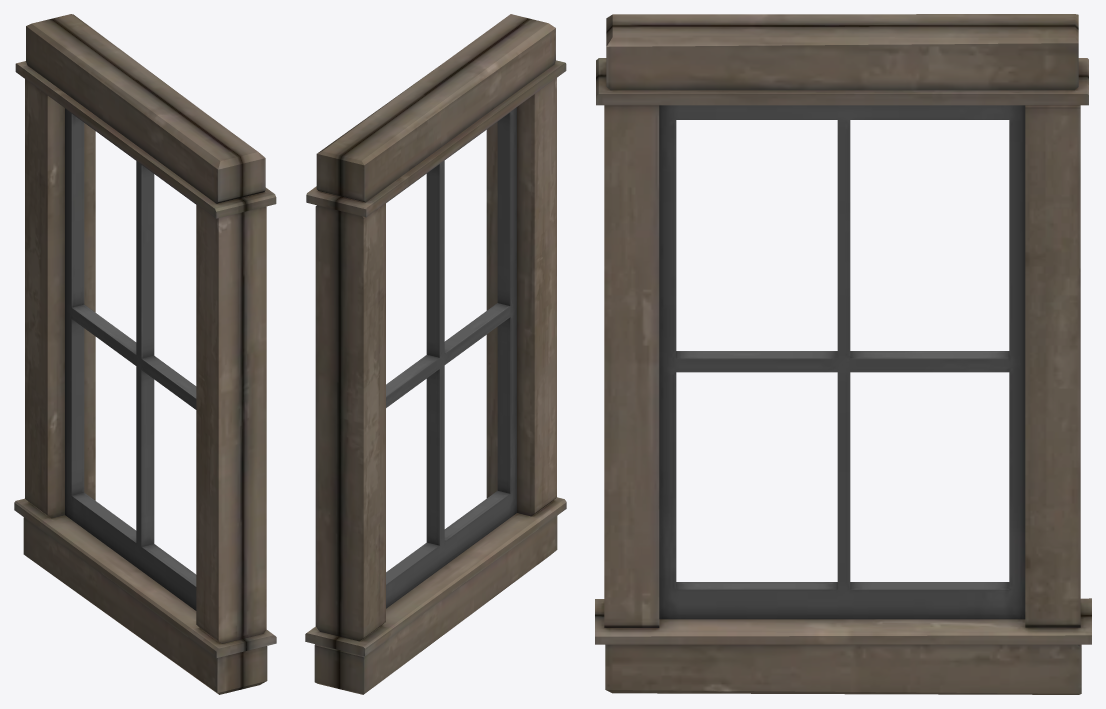
The picture shows the model from 3 angles, left to right: view 1: azimuth 30°, elevation 25°; view 2: azimuth 150°, elevation 25°; view 3: azimuth 270°, elevation 25°; orthographic projection. The views are drawn at different scales.
Visible parts, largest first — view 1: body0_model0_lod0_mesh0; view 2: body0_model0_lod0_mesh0; view 3: body0_model0_lod0_mesh0.
Boxes of the visible parts, left/top/right/bottom form: body0_model0_lod0_mesh0: left=14, top=14, right=276, bottom=694; body0_model0_lod0_mesh0: left=305, top=14, right=566, bottom=694; body0_model0_lod0_mesh0: left=595, top=14, right=1091, bottom=694.
Bounding box in the file's own units: 17.17 × 146 × 100.
1 material, 1 textured.
